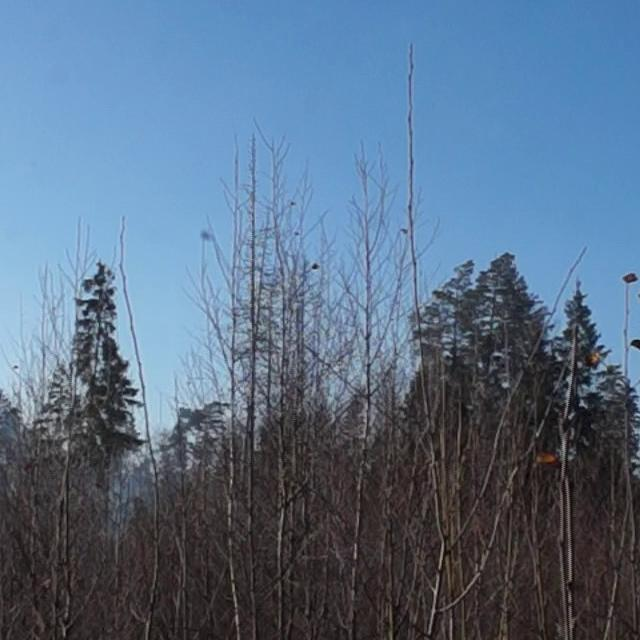Smoke: (88, 446, 169, 542)
